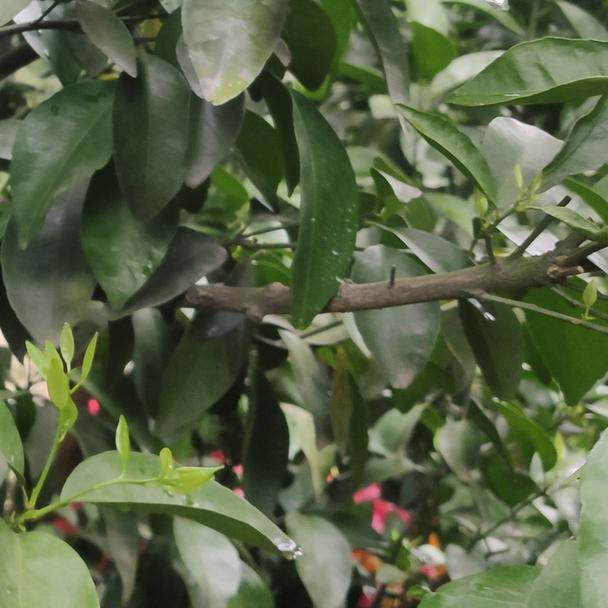shoot: (77, 422, 227, 515), (25, 331, 101, 494)
